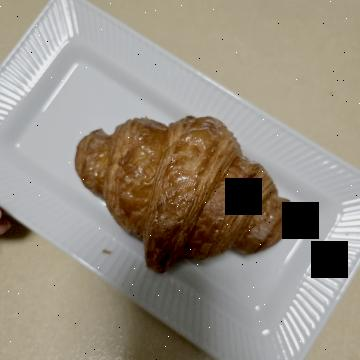croissant: (106, 62, 294, 296)
